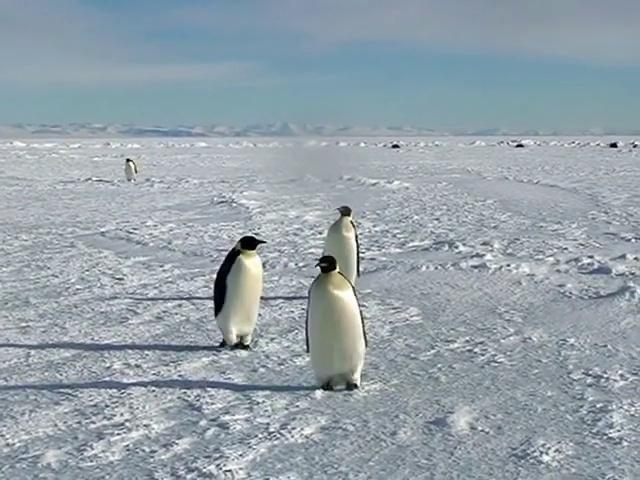animal: (324, 207, 359, 285)
